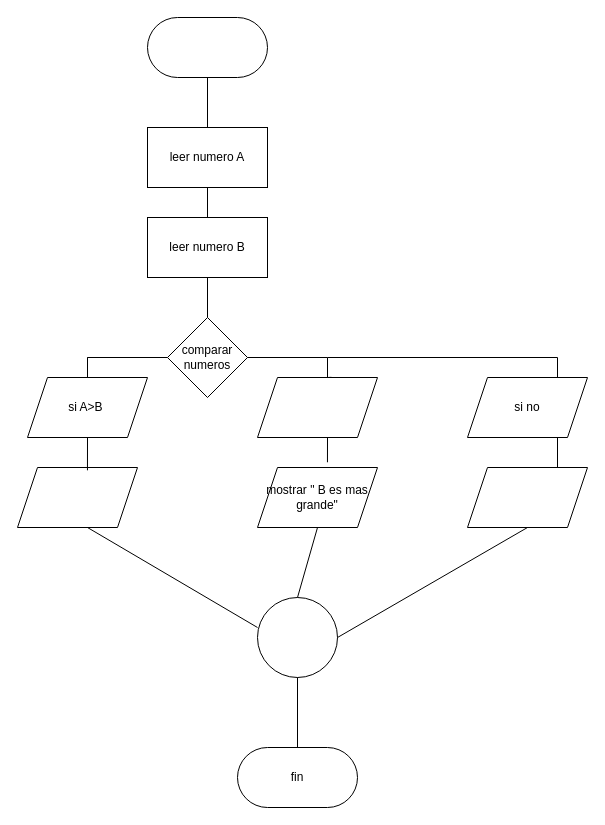
This 605x825 diagram has some shape labels left out. The box of each missing label's shape, as (x1, y1, x2, y2) in pixels:
Inicio: (146, 16, 268, 78)
mostrar " A y B son iguales": (466, 466, 588, 528)
mostrar "A es más grande": (16, 466, 138, 528)
si B>A: (256, 376, 378, 438)
